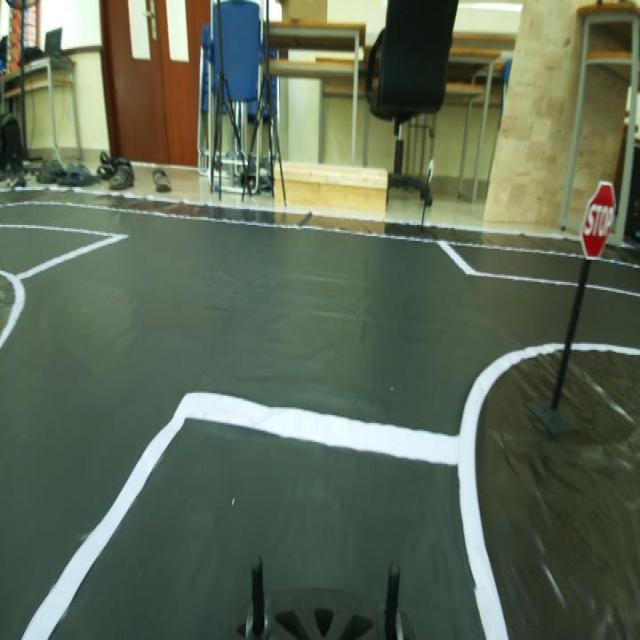stop: (574, 164, 619, 249)
